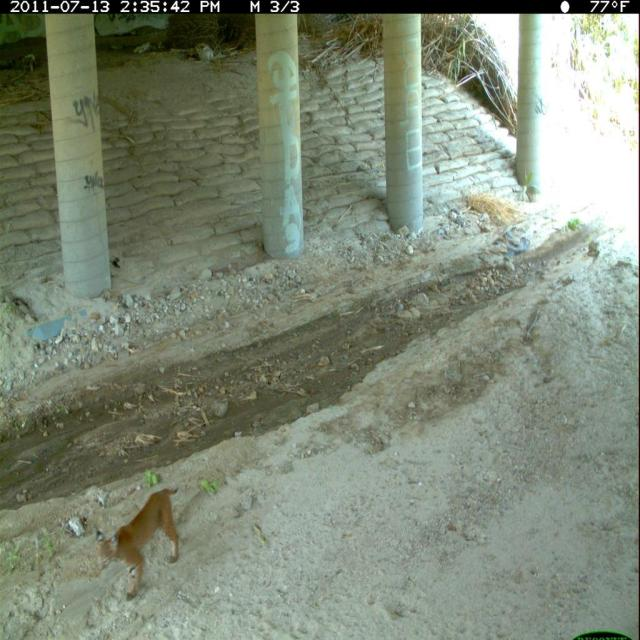bobcat: (92, 480, 187, 606)
